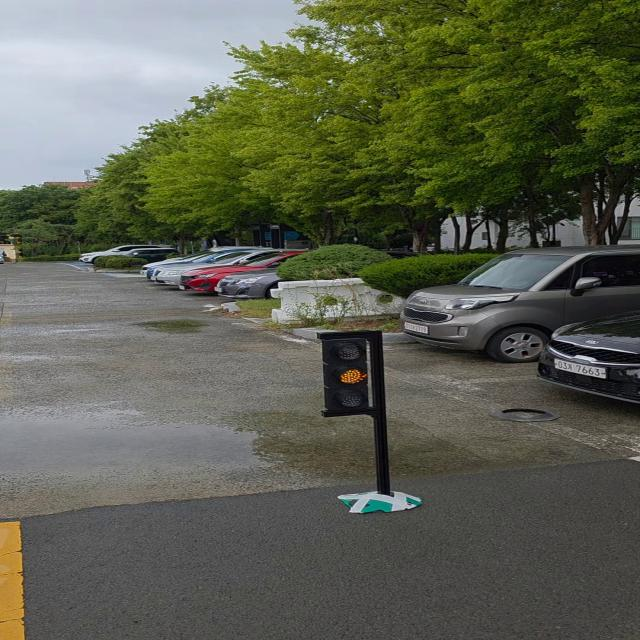yellow: (320, 337, 376, 415)
